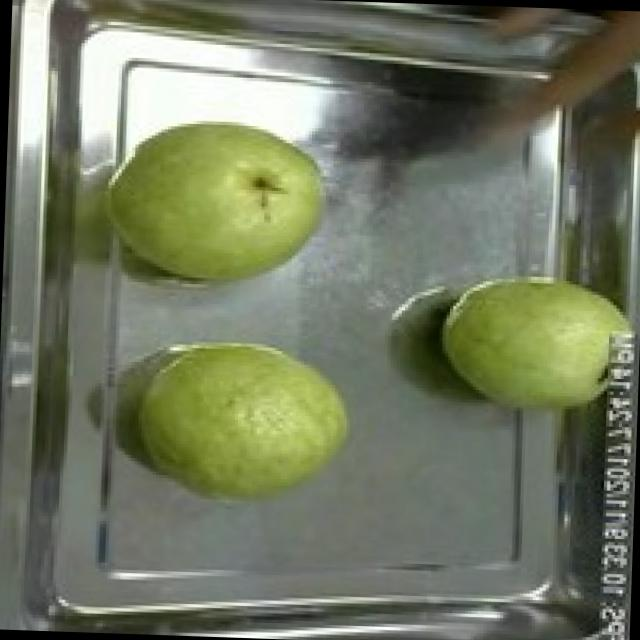Fruit: (106, 101, 344, 302), (128, 323, 364, 520), (426, 260, 636, 427)
